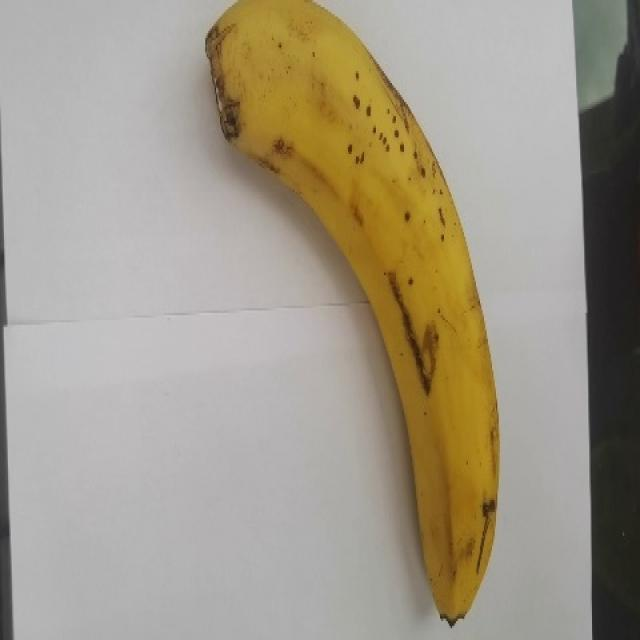Banana: (201, 1, 499, 628)
